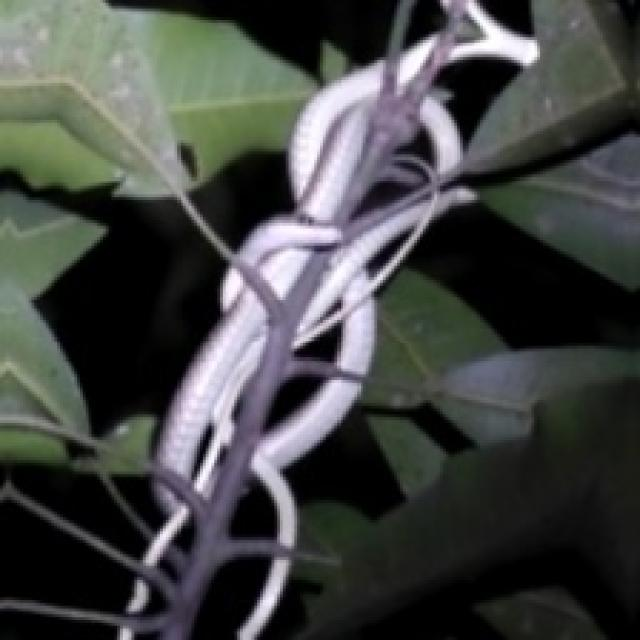paradise tree snake: (143, 0, 514, 637)
